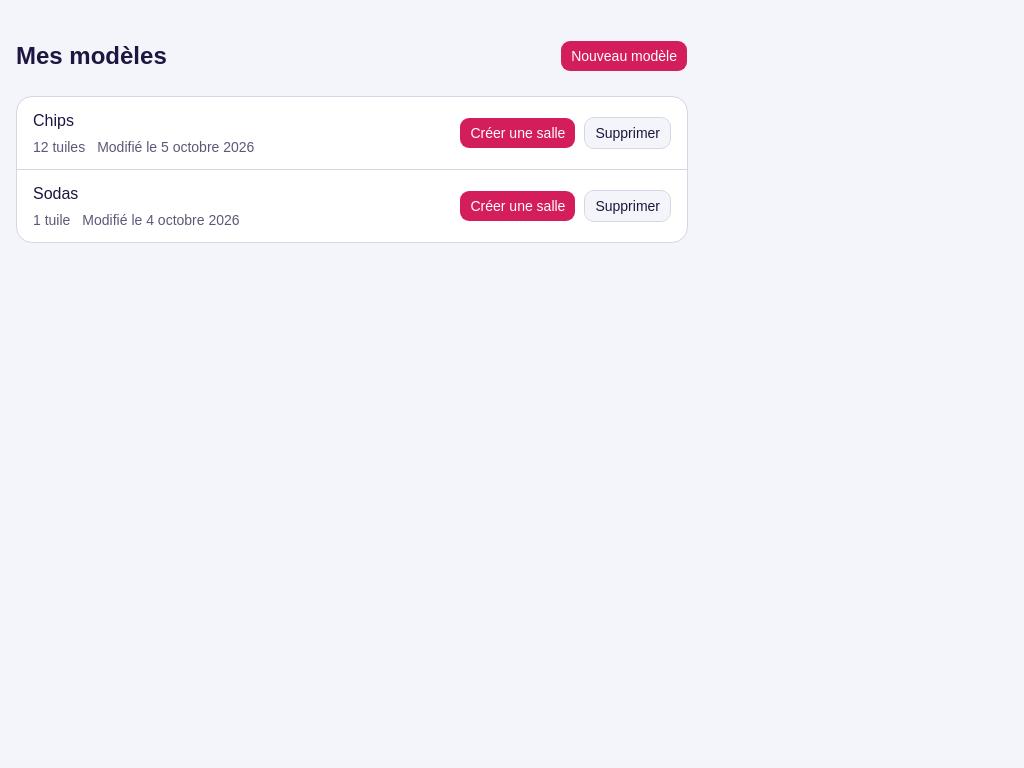
TemplatesPage › deletes a template after confirmation and refreshes the list
What coordinates should you click on to do the following:
click the button with aria-label "Supprimer Chips"
I would click on:
 (628, 133)
Its box is [584,117,671,149].
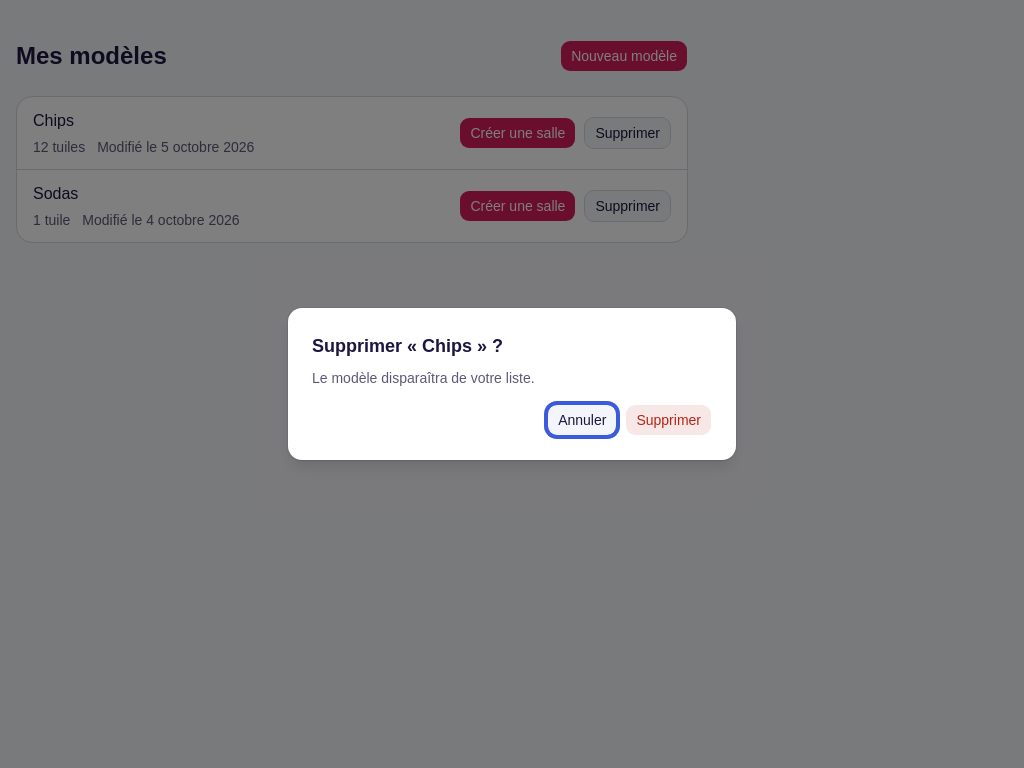
What coordinates should you click on to do the following:
click the button "Supprimer" below "Le modèle disparaîtra de votre liste."
I would click on:
 (669, 420)
Its box is [625,404,712,436].
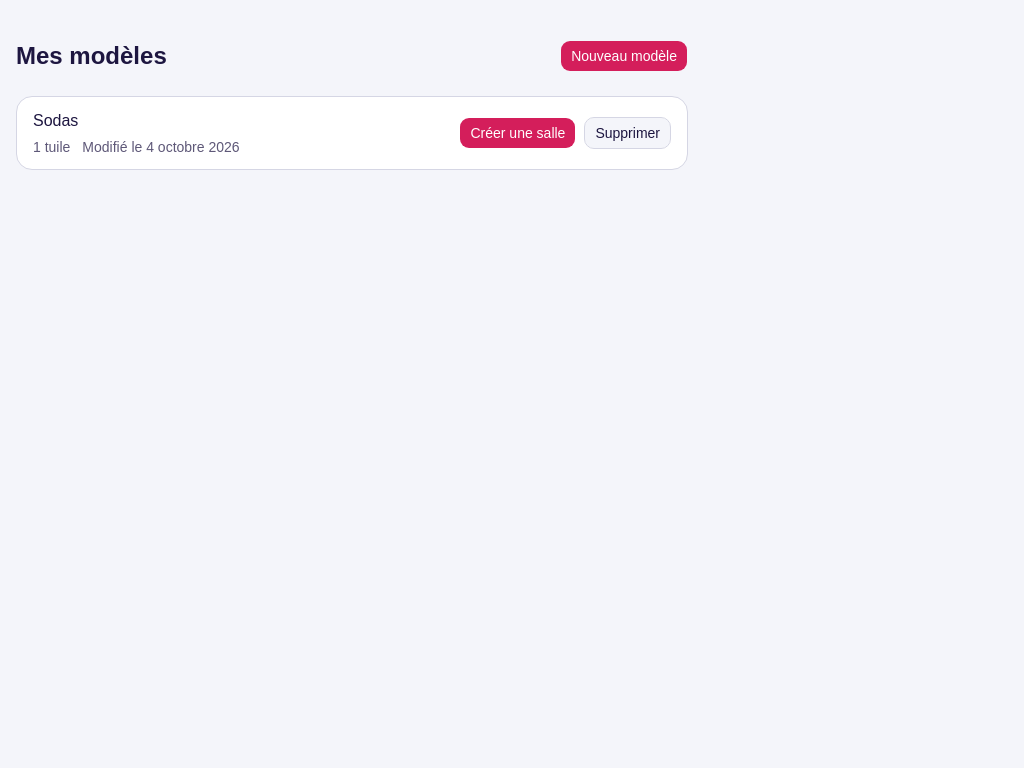
Expected: the link "Sodas" is shown, [33,112,78,129]
Result: the link "Chips" is gone
